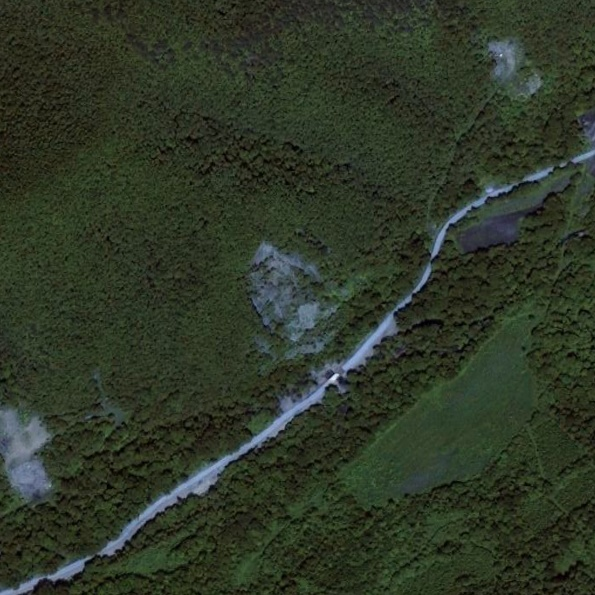slope: (246, 242, 330, 358), (0, 395, 55, 500), (488, 31, 545, 102)
